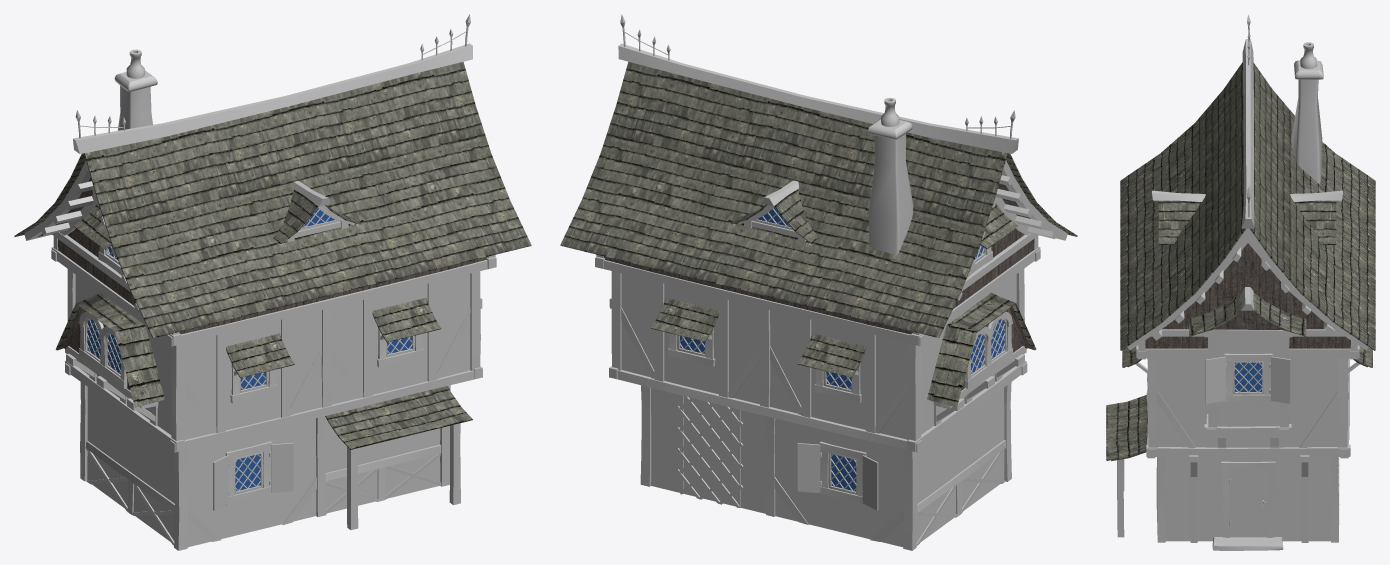
File: mw_type_1_cottage_03.FBX
3 views of the same model, side by side, from view 1: azimuth 30°, elevation 25°; view 2: azimuth 150°, elevation 25°; view 3: azimuth 270°, elevation 25° (orthographic). The views are drawn at different scales.
Parts seen in each view (by area): view 1: mw_type_1_cottage_03_roof, mw_type_1_cottage_03_wood, mw_type_1_cottage_03_stone, mw_type_1_cottage_03; view 2: mw_type_1_cottage_03_roof, mw_type_1_cottage_03_stone, mw_type_1_cottage_03_wood, mw_type_1_cottage_03; view 3: mw_type_1_cottage_03_roof, mw_type_1_cottage_03_wood, mw_type_1_cottage_03_stone, mw_type_1_cottage_03.
Boxes of the visible parts, bbox=[...] form: mw_type_1_cottage_03_roof: bbox=[14, 62, 531, 449]; mw_type_1_cottage_03_wood: bbox=[24, 43, 496, 550]; mw_type_1_cottage_03_stone: bbox=[75, 49, 470, 547]; mw_type_1_cottage_03: bbox=[75, 14, 470, 510]; mw_type_1_cottage_03_roof: bbox=[560, 61, 1077, 407]; mw_type_1_cottage_03_stone: bbox=[621, 97, 1016, 547]; mw_type_1_cottage_03_wood: bbox=[595, 43, 1067, 550]; mw_type_1_cottage_03: bbox=[620, 14, 1015, 510]; mw_type_1_cottage_03_roof: bbox=[1106, 62, 1375, 460]; mw_type_1_cottage_03_wood: bbox=[1111, 39, 1368, 542]; mw_type_1_cottage_03_stone: bbox=[1157, 42, 1337, 550]; mw_type_1_cottage_03: bbox=[1205, 15, 1290, 537].
Bounding box in the file's own units: 1399 × 1417 × 878.
